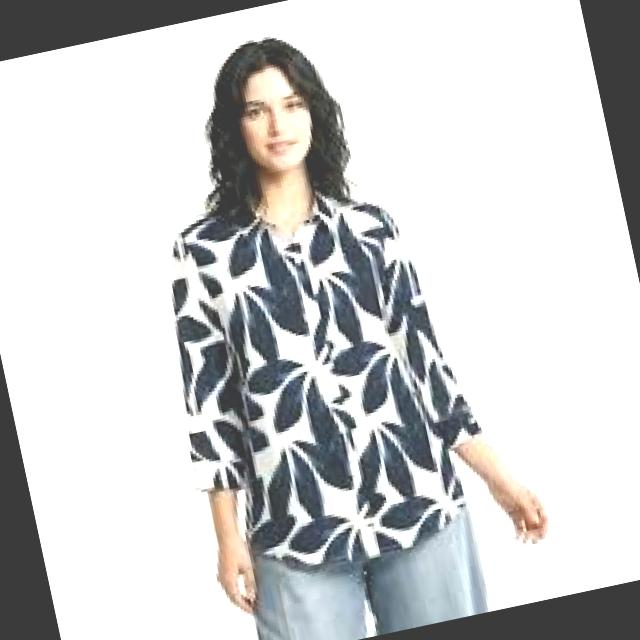face: (239, 65, 312, 175)
lower-wear: (253, 505, 490, 639)
top-wear: (171, 189, 482, 565)
